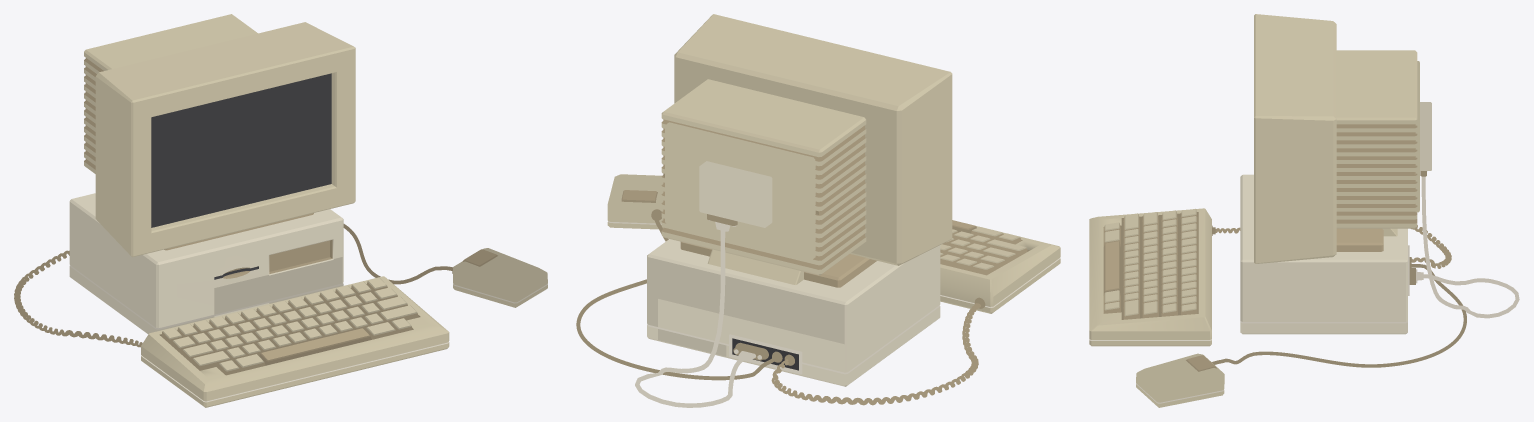
The model's file is mac.glb.
3 views of the same model, side by side, from view 1: azimuth 30°, elevation 25°; view 2: azimuth 150°, elevation 25°; view 3: azimuth 270°, elevation 25° (orthographic). The views are drawn at different scales.
Visible parts, largest first — view 1: Object_4, Object_5, Object_11, Object_6, Object_7, Object_8, Object_10, Object_9; view 2: Object_4, Object_11, Object_6, Object_10, Object_7, Object_9, Object_8, Object_5; view 3: Object_4, Object_11, Object_6, Object_9, Object_10, Object_8, Object_7.
Boxes of the visible parts, <box> form: Object_4: <box>84,14,547,407</box>; Object_5: <box>151,73,331,279</box>; Object_11: <box>69,193,343,334</box>; Object_6: <box>84,58,496,375</box>; Object_7: <box>14,250,479,371</box>; Object_8: <box>159,240,497,365</box>; Object_10: <box>70,265,547,402</box>; Object_9: <box>223,224,497,284</box>; Object_4: <box>607,14,1060,313</box>; Object_11: <box>647,161,940,386</box>; Object_6: <box>622,119,1027,287</box>; Object_10: <box>608,220,1060,407</box>; Object_7: <box>622,119,1003,405</box>; Object_9: <box>576,191,985,380</box>; Object_8: <box>622,191,1029,365</box>; Object_5: <box>732,338,798,370</box>; Object_4: <box>1089,14,1419,407</box>; Object_11: <box>1240,102,1431,334</box>; Object_6: <box>1103,124,1417,369</box>; Object_9: <box>1121,171,1466,367</box>; Object_10: <box>1089,176,1519,403</box>; Object_8: <box>1103,171,1426,371</box>; Object_7: <box>1104,124,1451,370</box>.
Bounding box in the file's own units: 56.68 × 30.89 × 52.68.
